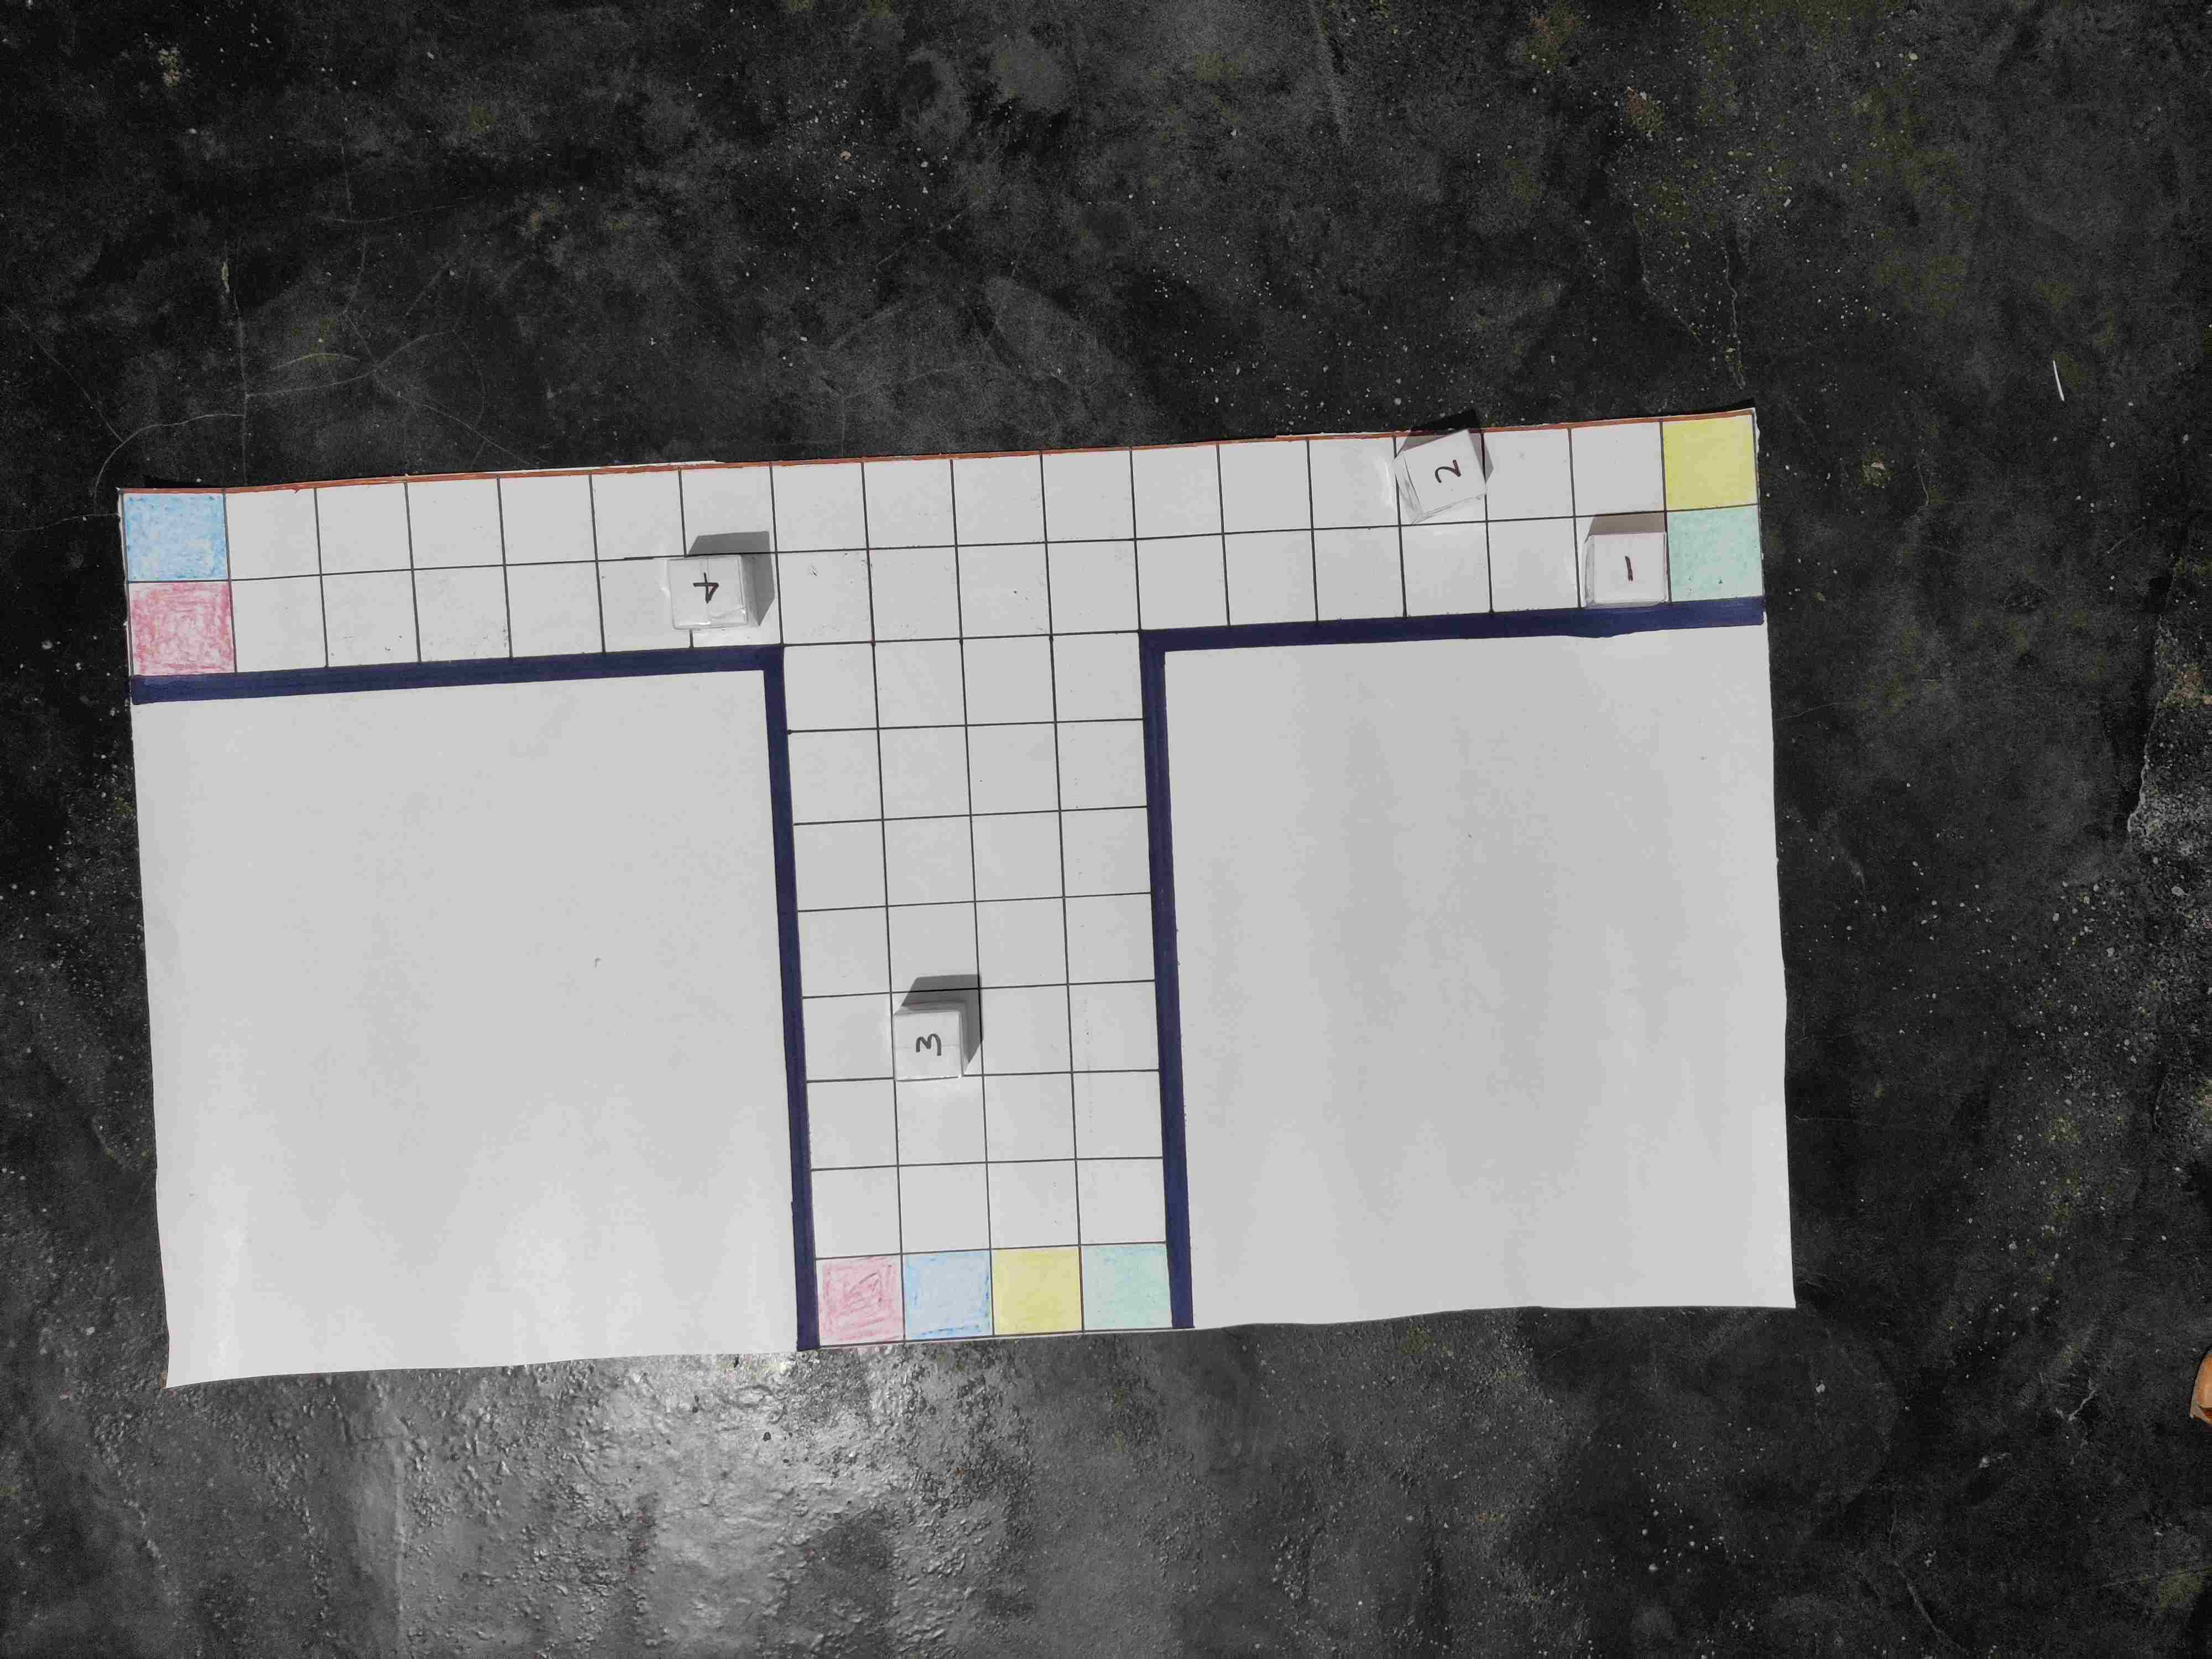arena: (120, 406, 1763, 1364)
bot: (1402, 429, 1480, 512), (664, 556, 749, 627), (1594, 532, 1665, 605), (895, 1016, 961, 1077)
